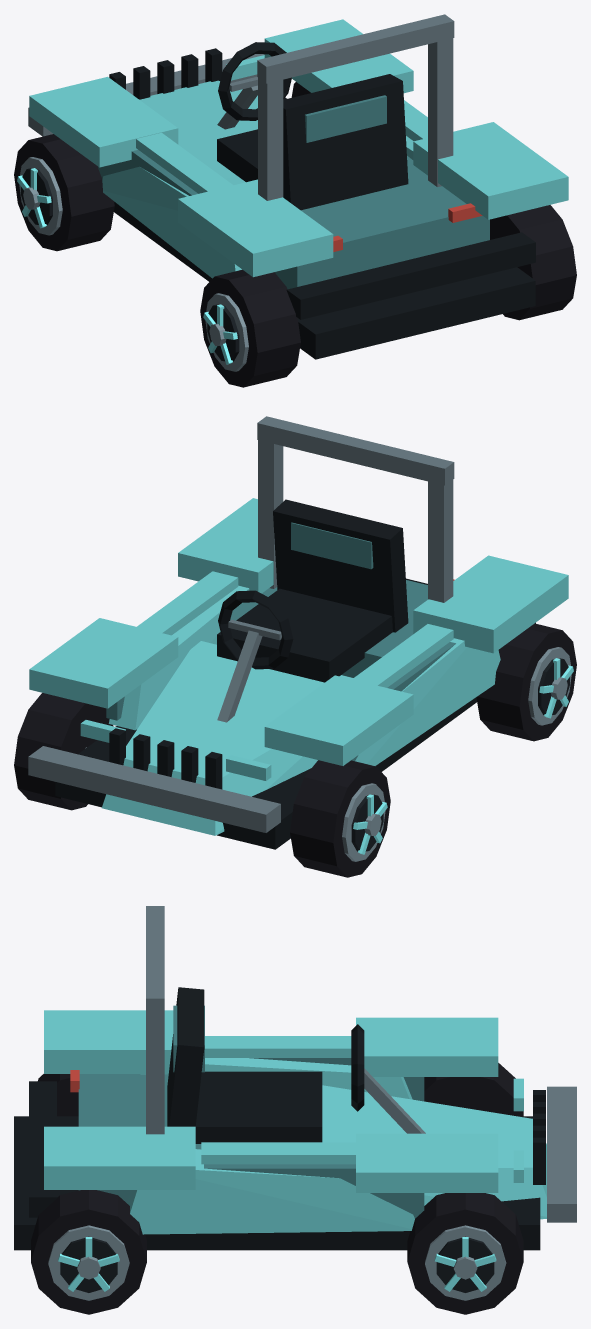
The model's file is kart.glb.
The picture shows the model from 3 angles, top to bottom: view 1: azimuth 30°, elevation 25°; view 2: azimuth 150°, elevation 25°; view 3: azimuth 270°, elevation 25°; orthographic projection.
Visible parts, largest first — view 1: chassis, wheel-rear-left, wheel-front-left, wheel-rear-right; view 2: chassis, wheel-front-left, wheel-rear-left, wheel-front-right; view 3: chassis, wheel-front-right, wheel-rear-right, wheel-front-left, wheel-rear-left.
Part boxes in pixels (x1,y1,x2,y2): chassis: [28, 14, 568, 359]; wheel-rear-left: [200, 269, 300, 387]; wheel-front-left: [14, 134, 114, 251]; wheel-rear-right: [490, 205, 576, 320]; chassis: [28, 416, 568, 849]; wheel-front-left: [290, 760, 390, 877]; wheel-rear-left: [476, 623, 576, 741]; wheel-front-right: [14, 693, 113, 810]; chassis: [14, 906, 576, 1250]; wheel-front-right: [407, 1193, 523, 1314]; wheel-rear-right: [31, 1190, 146, 1314]; wheel-front-left: [424, 1063, 523, 1116]; wheel-rear-left: [38, 1074, 78, 1116].
Size of the model in its own units: 2.16 by 1.67 by 3.
